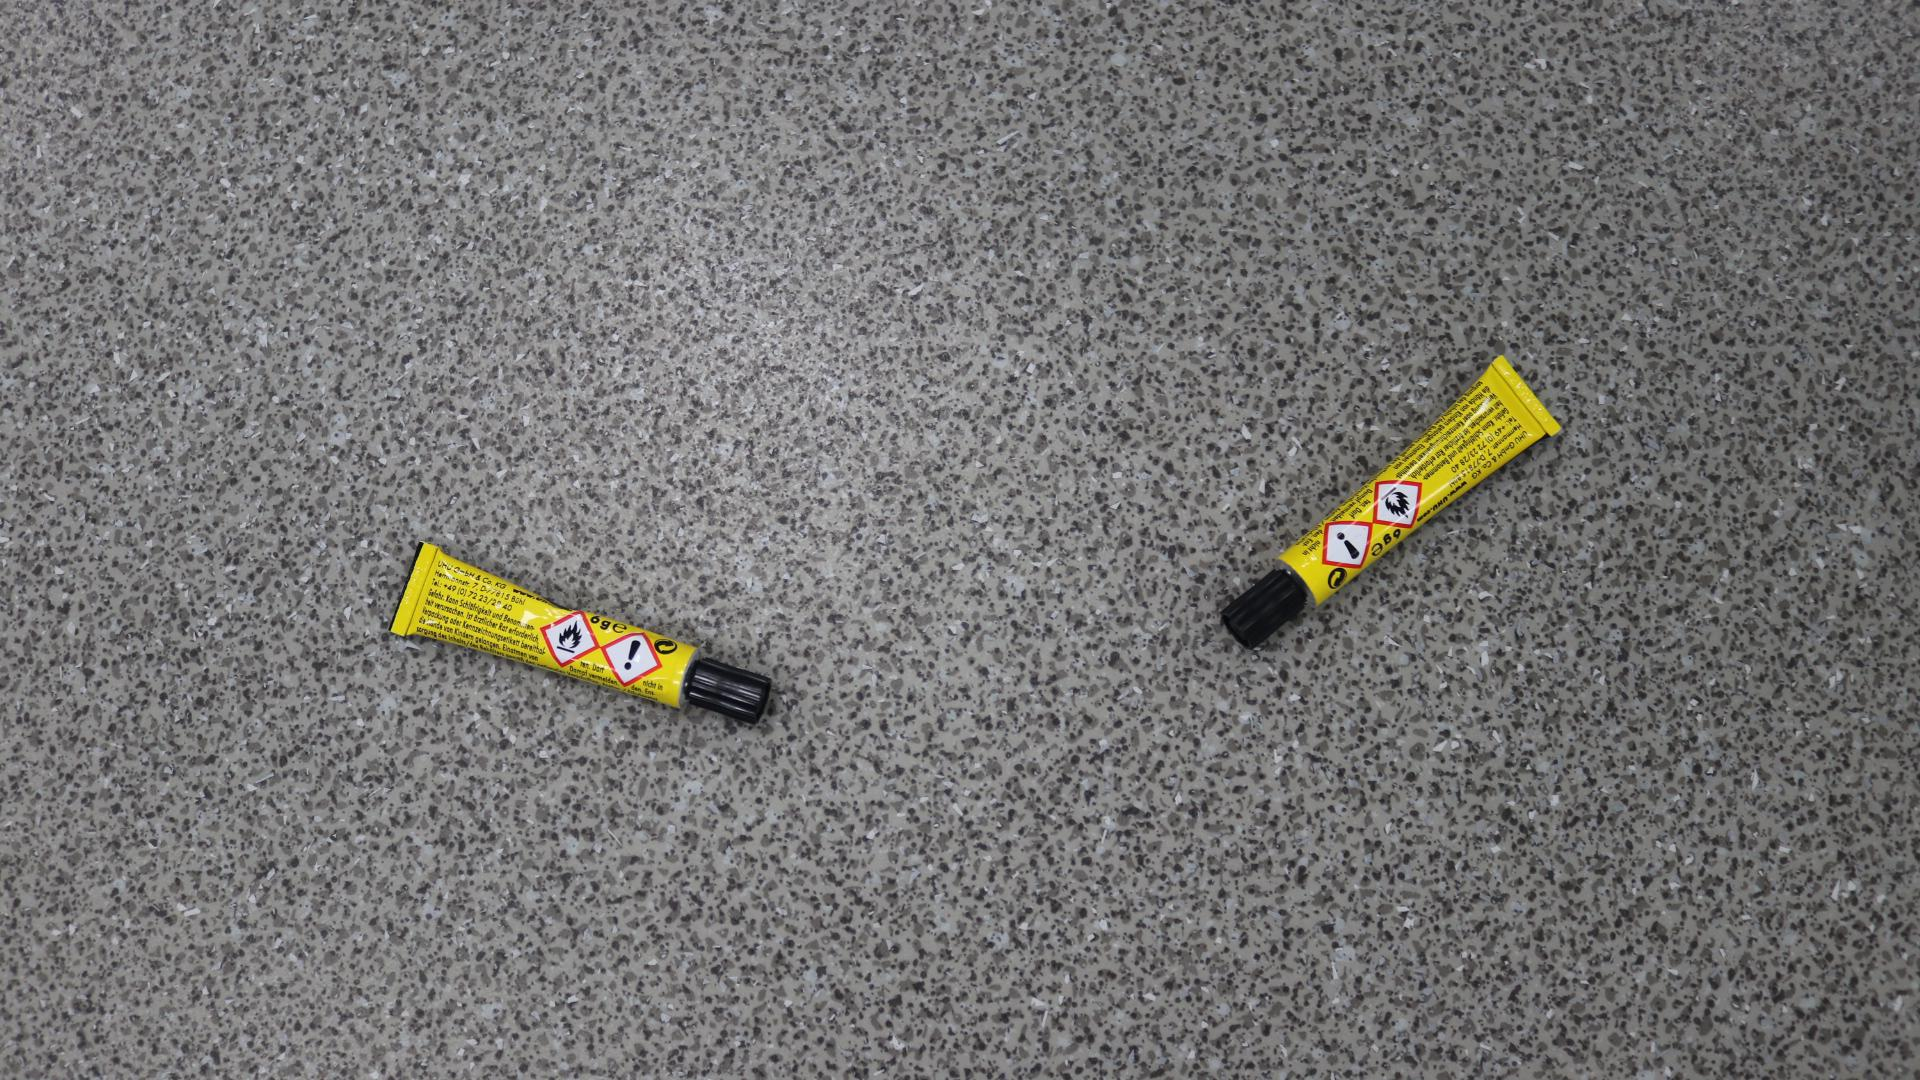Head: (1262, 602, 1269, 609), (725, 686, 731, 692)
Tail: (1525, 394, 1531, 400), (410, 589, 415, 594)
Tube: (1220, 354, 1561, 648), (386, 539, 772, 726)
